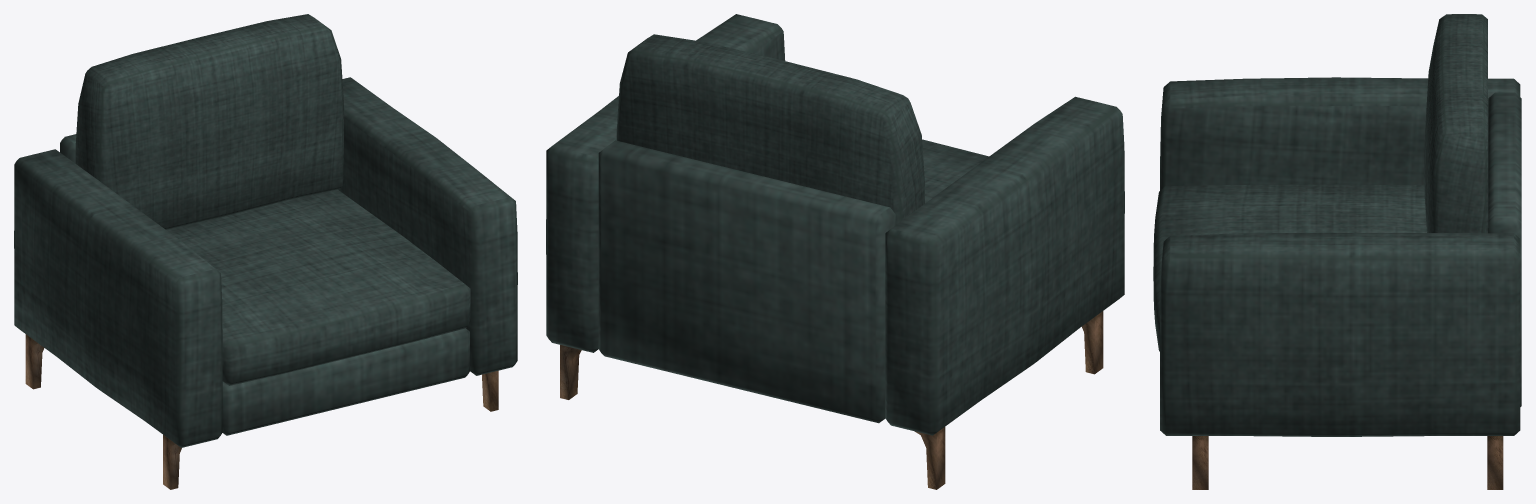
The model's file is armchair.obj.
The picture shows the model from 3 angles, left to right: view 1: azimuth 30°, elevation 25°; view 2: azimuth 150°, elevation 25°; view 3: azimuth 270°, elevation 25°; orthographic projection. The views are drawn at different scales.
Parts seen in each view (by area): view 1: Cube; view 2: Cube; view 3: Cube.
Part boxes in pixels (box(x1,y1,x2,y2)): Cube: box(14, 14, 517, 489); Cube: box(546, 14, 1124, 489); Cube: box(1153, 14, 1521, 489).
Size of the model in its own units: 2.83 by 2.42 by 2.39.
